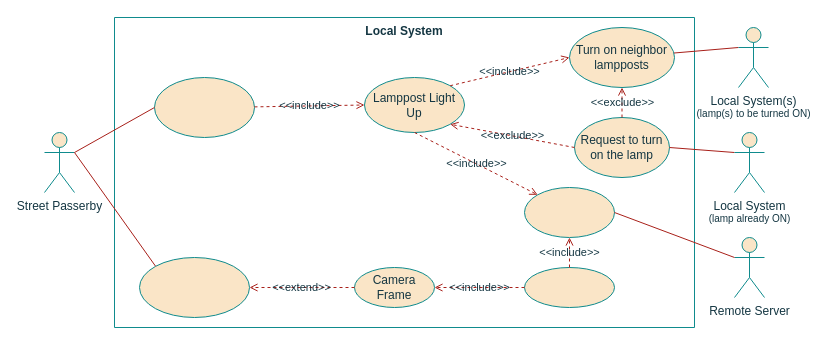
This 828x345 diagram has some shape labels left out. The shapes that lost their labels are listed below. From the top down, each one's box as (x1, y1, x2, y2) in pixels, then its label:
(154, 76, 254, 138): Trigger motion detector
(524, 186, 614, 238): Send Data
(138, 256, 250, 318): Clears a parking space
(524, 266, 614, 308): Image Processing
